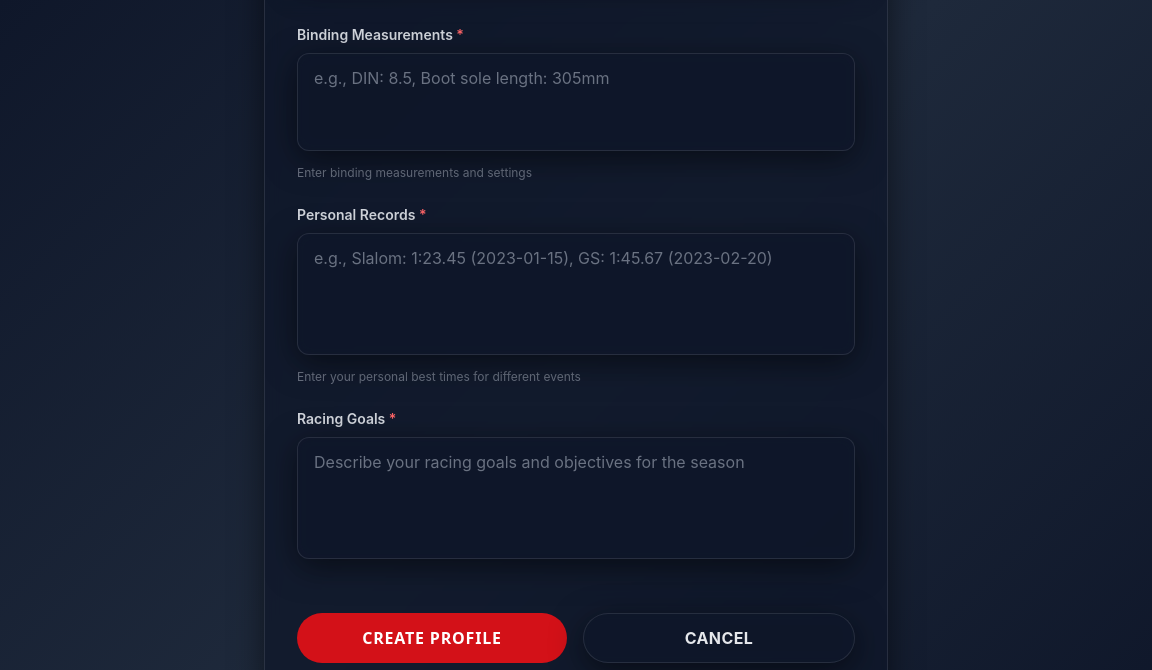
it: ProfileForm › Validation › should clear field error when user starts typing
(page scrolled)
// Submit to trigger validation errors
Click the button "Create Profile" at (432, 638), box [297, 613, 567, 663]
(page scrolled)
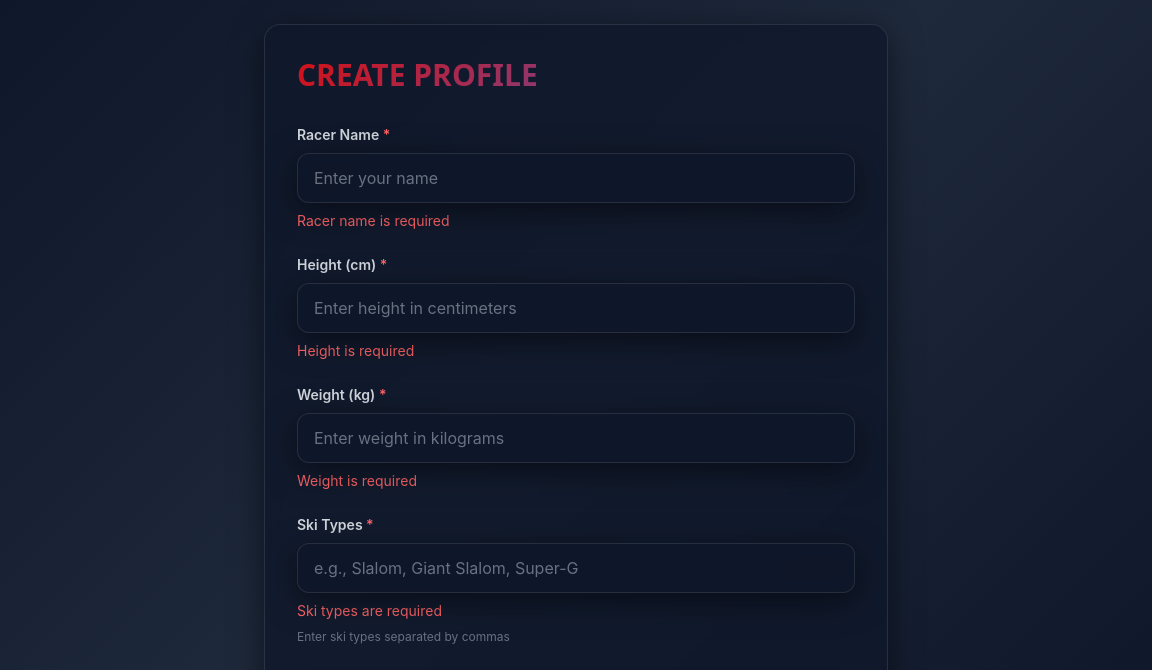
Result: the text "Height is required" is shown at [297, 342, 414, 359]
// Type in height field
Type "175" into the number field labelled "Height (cm) *" at (576, 308), box [297, 283, 855, 333]
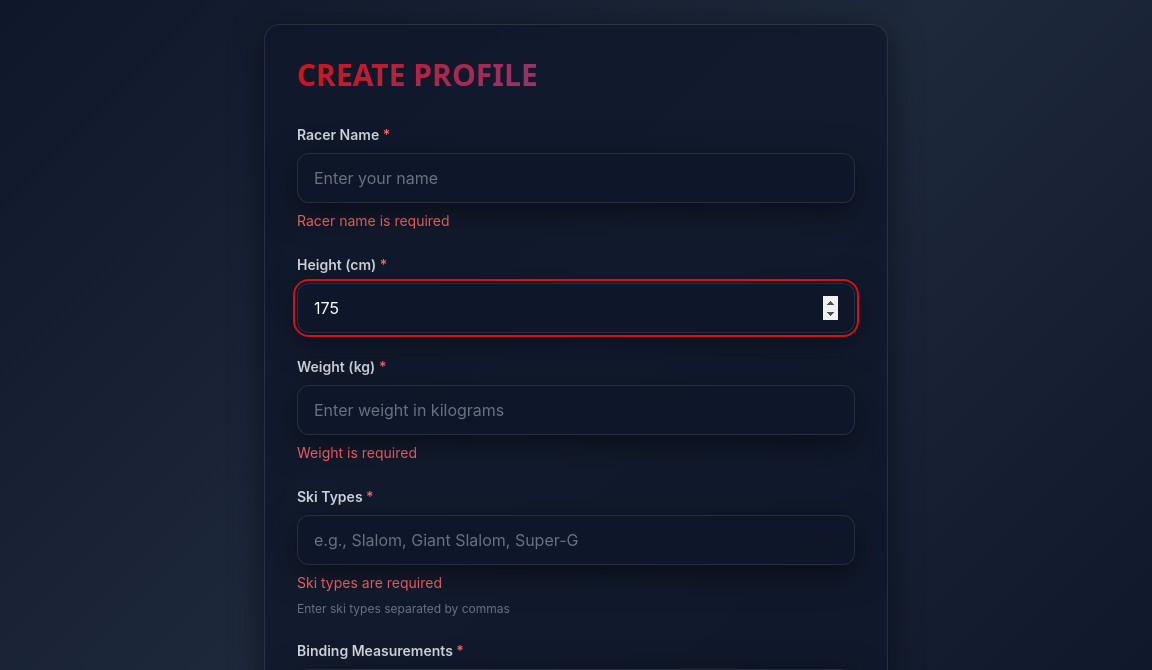
Result: the text "Height is required" is gone
